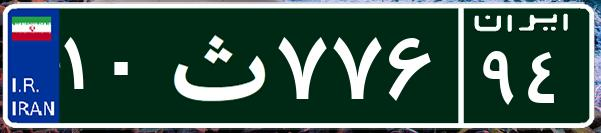0: (110, 28, 158, 105)
1: (57, 26, 110, 107)
4: (525, 38, 570, 115)
6: (385, 28, 445, 110)
7: (273, 28, 330, 110), (330, 28, 385, 110)
9: (475, 38, 525, 113)
ث: (158, 15, 273, 115)
